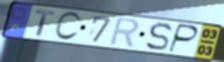7: (91, 16, 112, 44)
C: (52, 11, 83, 43)
P: (167, 23, 200, 55)
R: (107, 16, 141, 50)
S: (144, 22, 174, 53)
T: (34, 9, 56, 38)
